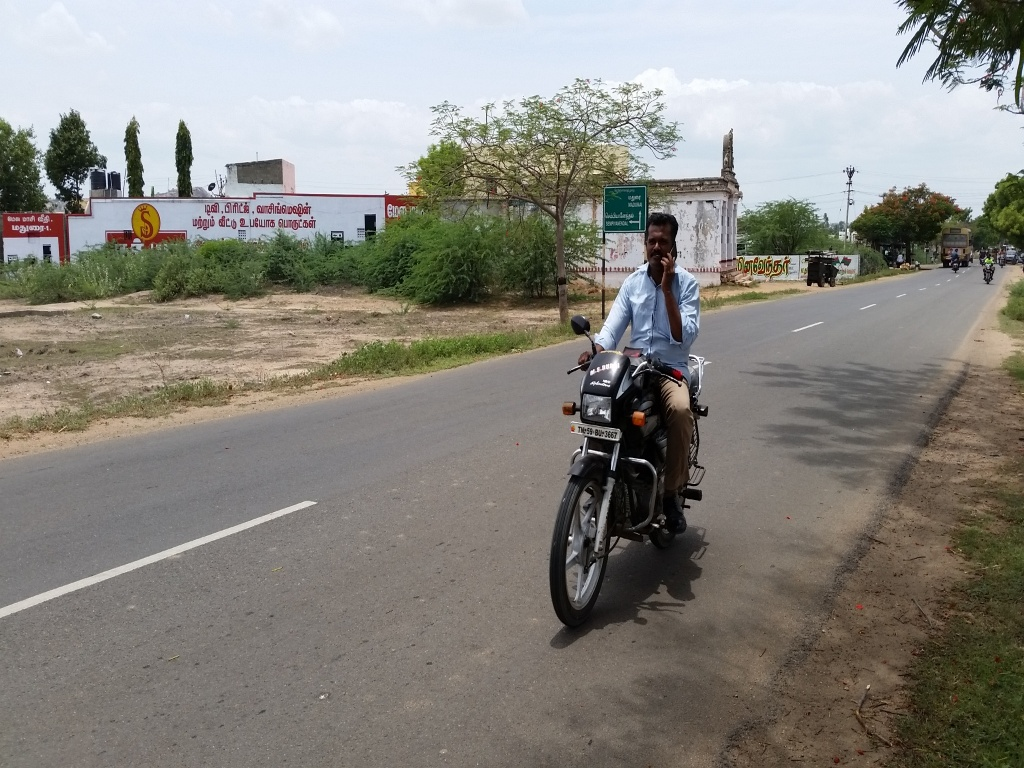biker: (515, 143, 750, 651)
nohelmet: (637, 200, 693, 293)
